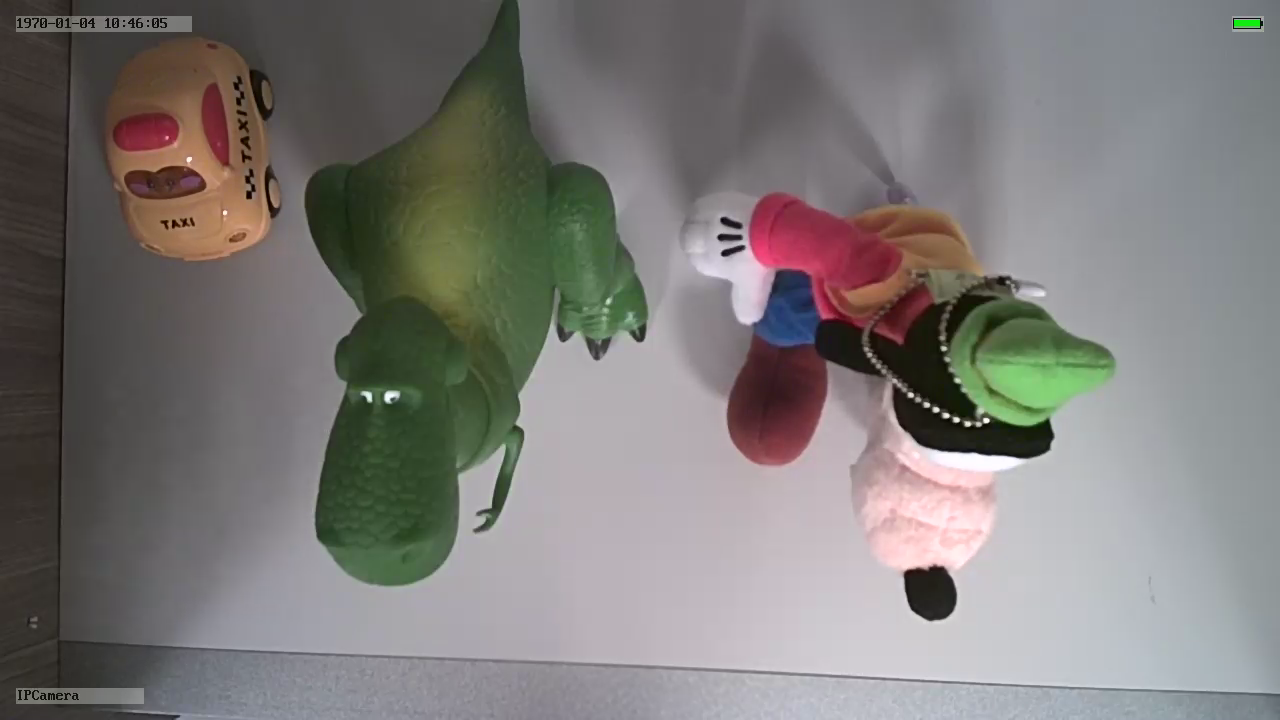goofy: (675, 190, 1119, 626)
